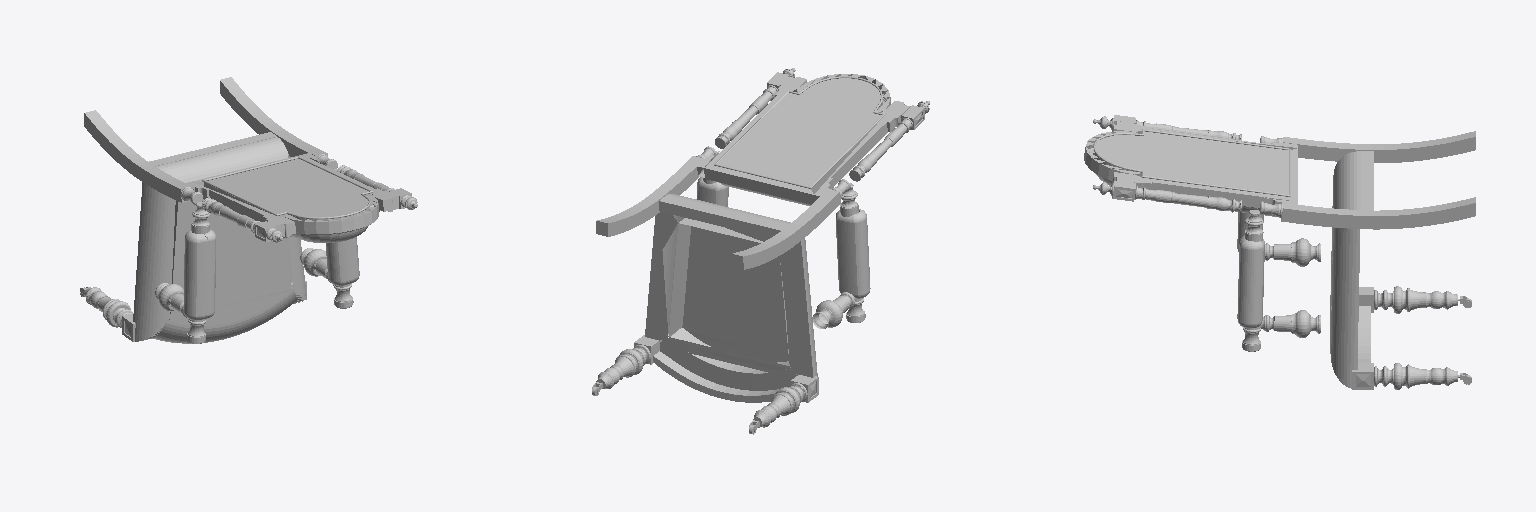
The model's file is chair_0303_QEM_50pct.obj.
3 renders of one model, left to right at view 1: azimuth 30°, elevation 25°; view 2: azimuth 150°, elevation 25°; view 3: azimuth 270°, elevation 25°, orthographic.
Size of the model in its own units: 0.5316 by 0.6176 by 1.